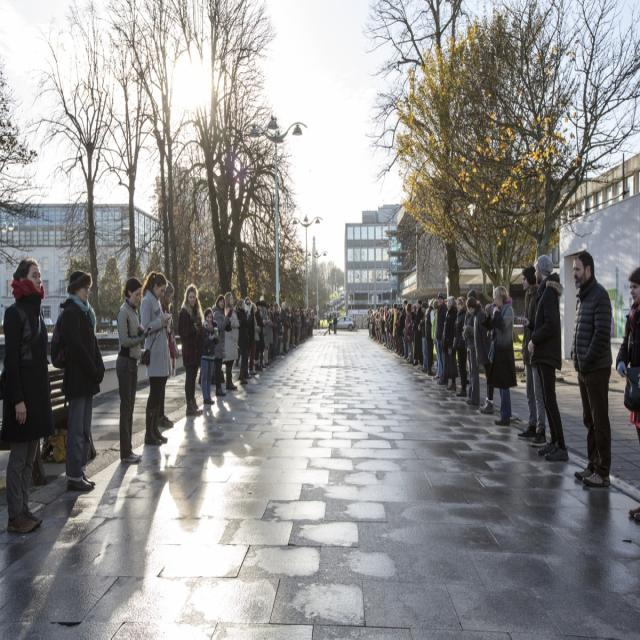body: (0, 257, 50, 534), (48, 266, 106, 492), (514, 251, 572, 465), (567, 246, 614, 494), (114, 274, 152, 464), (615, 264, 640, 526), (138, 269, 174, 446), (515, 262, 549, 448), (478, 283, 518, 429), (465, 294, 496, 416), (177, 282, 205, 416), (156, 278, 180, 429), (460, 286, 482, 406), (280, 299, 321, 362), (210, 293, 233, 397), (198, 306, 220, 406), (221, 290, 242, 392), (451, 294, 469, 398), (440, 295, 458, 392), (434, 290, 450, 388), (233, 298, 250, 387), (242, 295, 258, 376), (366, 305, 392, 350), (423, 298, 437, 377), (430, 298, 443, 379), (254, 298, 267, 371), (248, 302, 261, 371), (261, 299, 272, 369), (418, 300, 428, 373), (407, 303, 418, 367), (414, 298, 422, 366), (272, 301, 281, 361), (264, 303, 272, 363), (399, 300, 407, 358), (406, 302, 413, 362), (402, 304, 409, 358), (394, 306, 401, 354), (397, 306, 403, 356), (391, 302, 397, 352), (271, 304, 276, 358), (389, 307, 394, 350), (326, 312, 332, 336), (332, 314, 338, 334)
